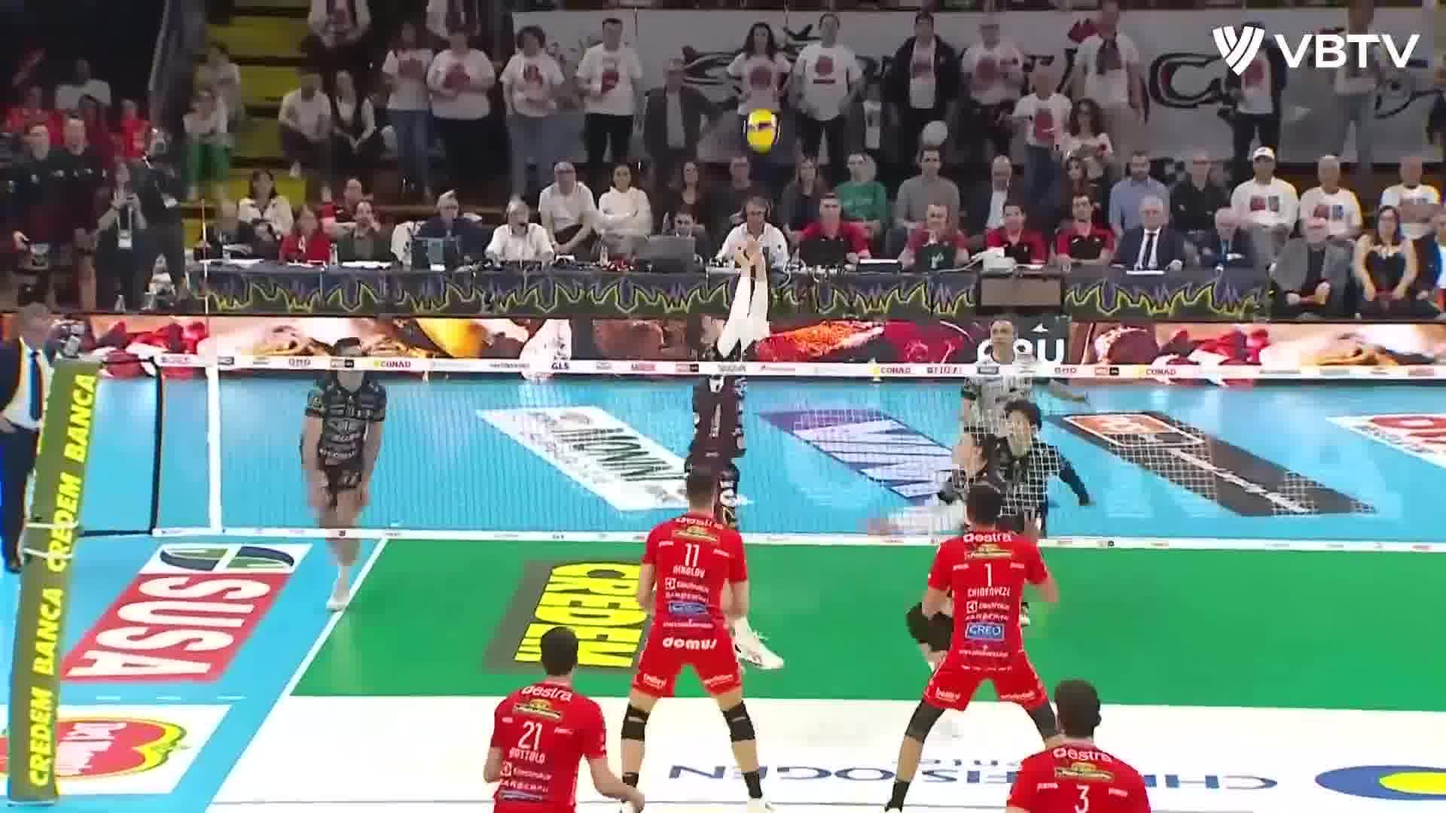balls: (740, 105, 786, 154)
